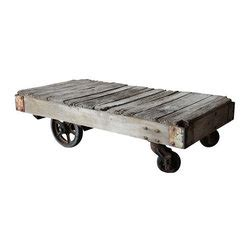Carts: (15, 78, 237, 172)
